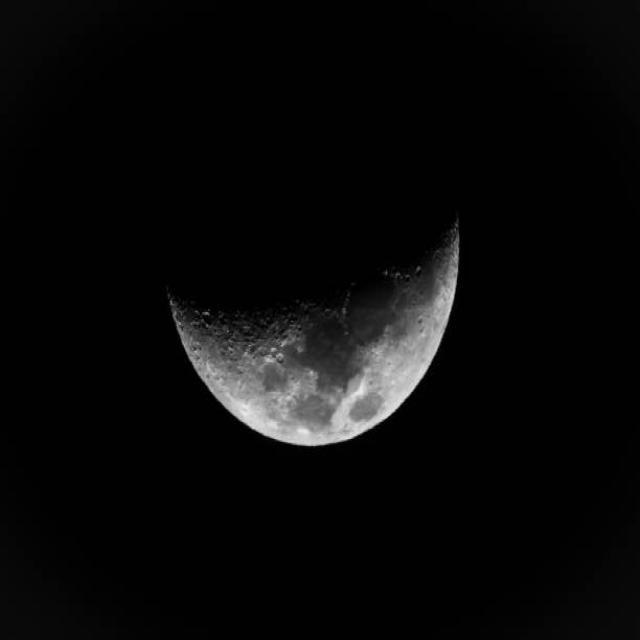moon: (162, 82, 464, 447)
